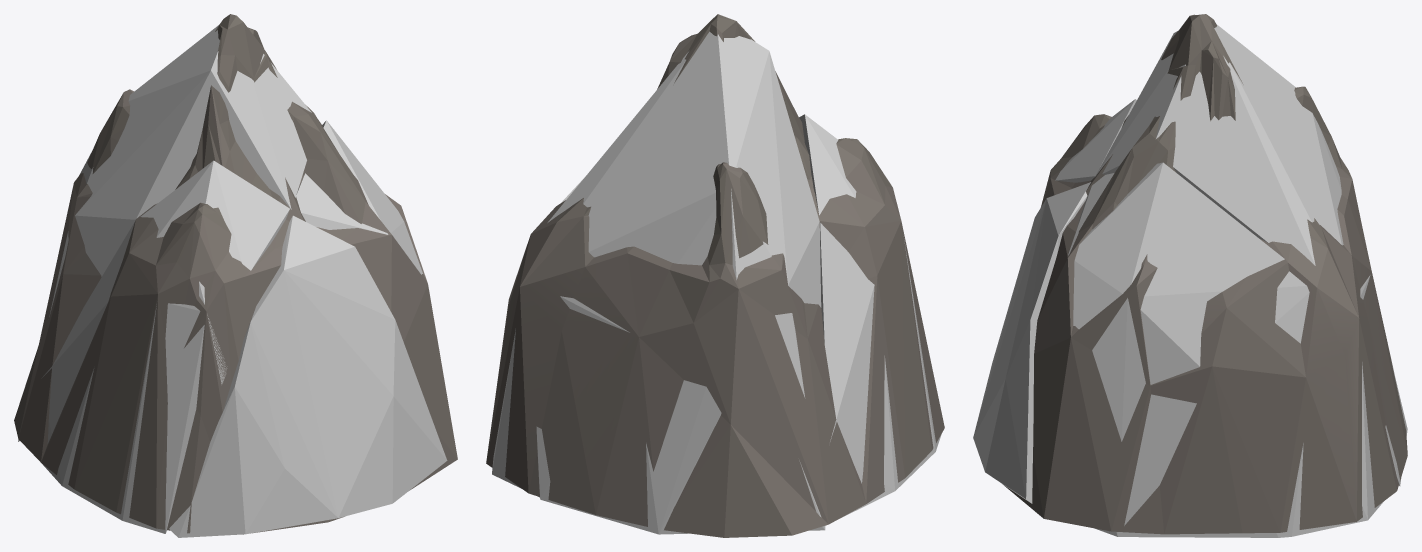
File: SM_Env_Mountains_Grass_02.fbx
3 views of the same model, side by side, from view 1: azimuth 30°, elevation 25°; view 2: azimuth 150°, elevation 25°; view 3: azimuth 270°, elevation 25° (orthographic).
Parts seen in each view (by area): view 1: SM_Env_Mountains_Grass_02_ConvexHulls, SM_Env_Mountains_Grass_02; view 2: SM_Env_Mountains_Grass_02, SM_Env_Mountains_Grass_02_ConvexHulls; view 3: SM_Env_Mountains_Grass_02, SM_Env_Mountains_Grass_02_ConvexHulls.
Boxes of the visible parts, <box> form: SM_Env_Mountains_Grass_02_ConvexHulls: <box>18,24,447,537</box>; SM_Env_Mountains_Grass_02: <box>14,14,457,534</box>; SM_Env_Mountains_Grass_02: <box>486,14,944,537</box>; SM_Env_Mountains_Grass_02_ConvexHulls: <box>492,31,941,534</box>; SM_Env_Mountains_Grass_02: <box>1004,14,1407,534</box>; SM_Env_Mountains_Grass_02_ConvexHulls: <box>973,24,1407,537</box>.
Bounding box in the file's own units: 2264 × 2384 × 2642.
Materials: 2 (1 with a texture image).
